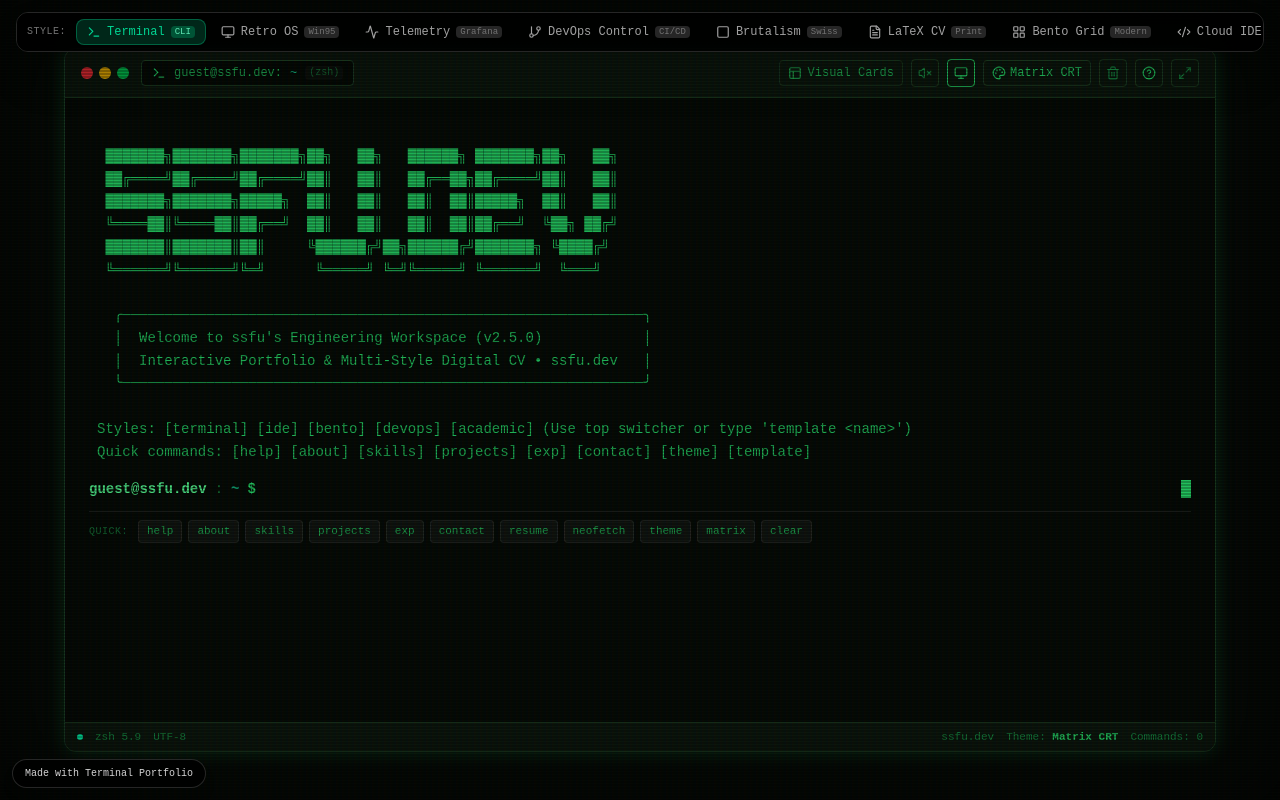
Scenario: App browser state integration › plays one deterministic rock-paper-scissors round
The image size is (1280, 800).
Type "rps paper" into the field with id "terminal-active-input" at (723, 489), box [264, 479, 1182, 499]
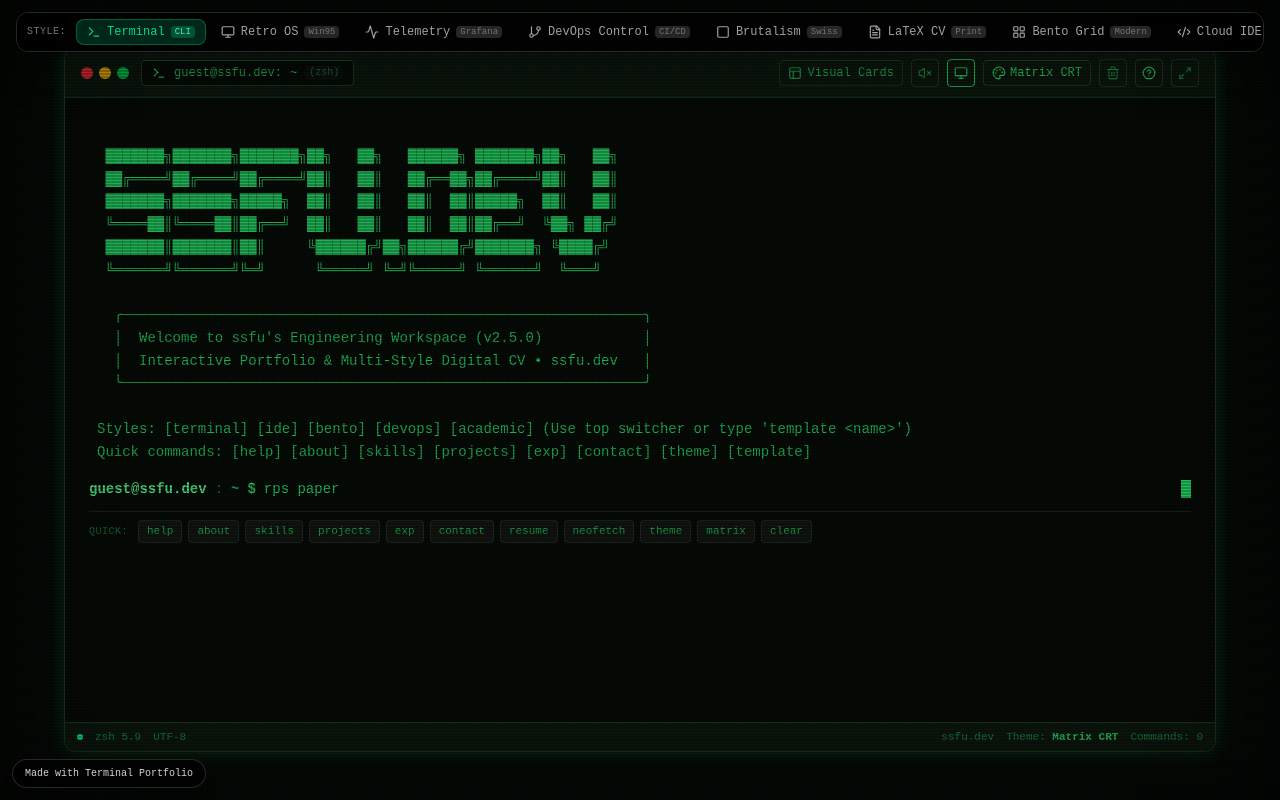
Press Enter in the field with id "terminal-active-input", box [264, 479, 1182, 499]
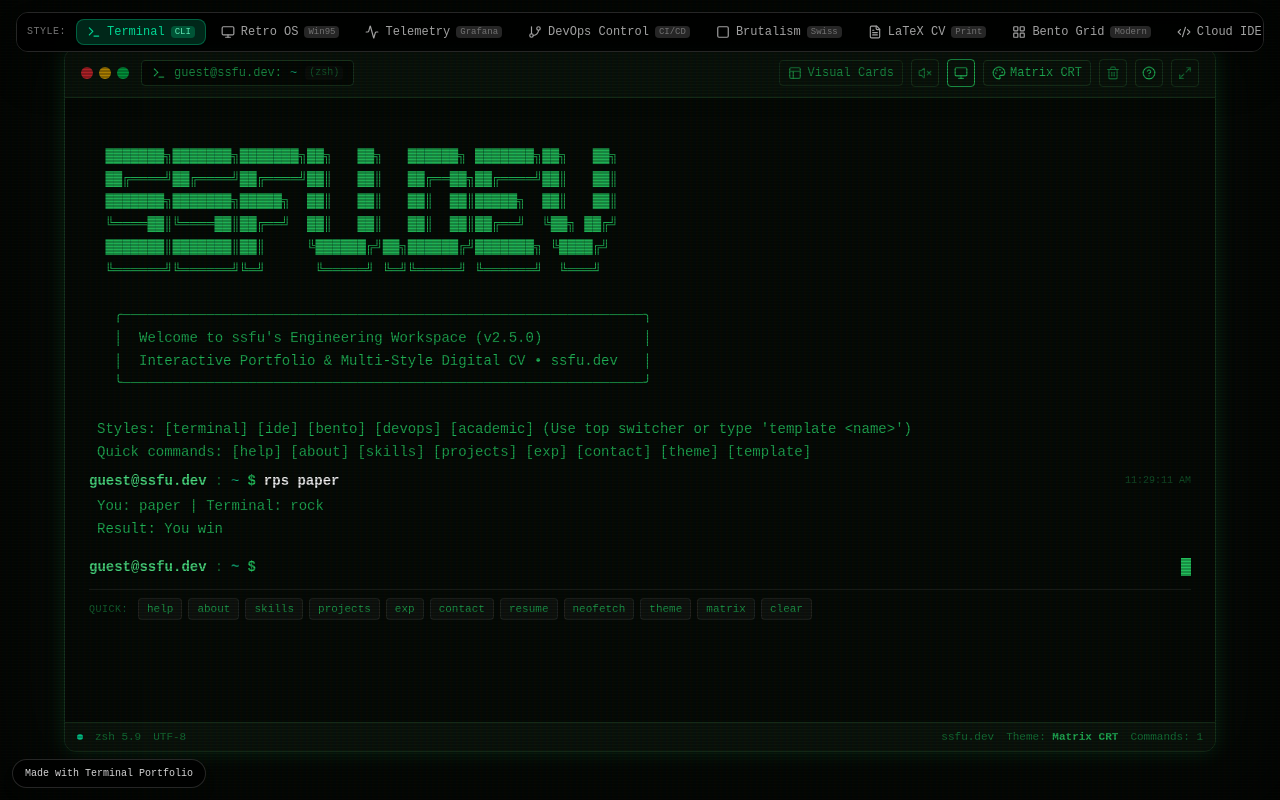
Expected: the text "You: paper | Terminal: rock Result: You win" is shown, [97, 498, 324, 537]
